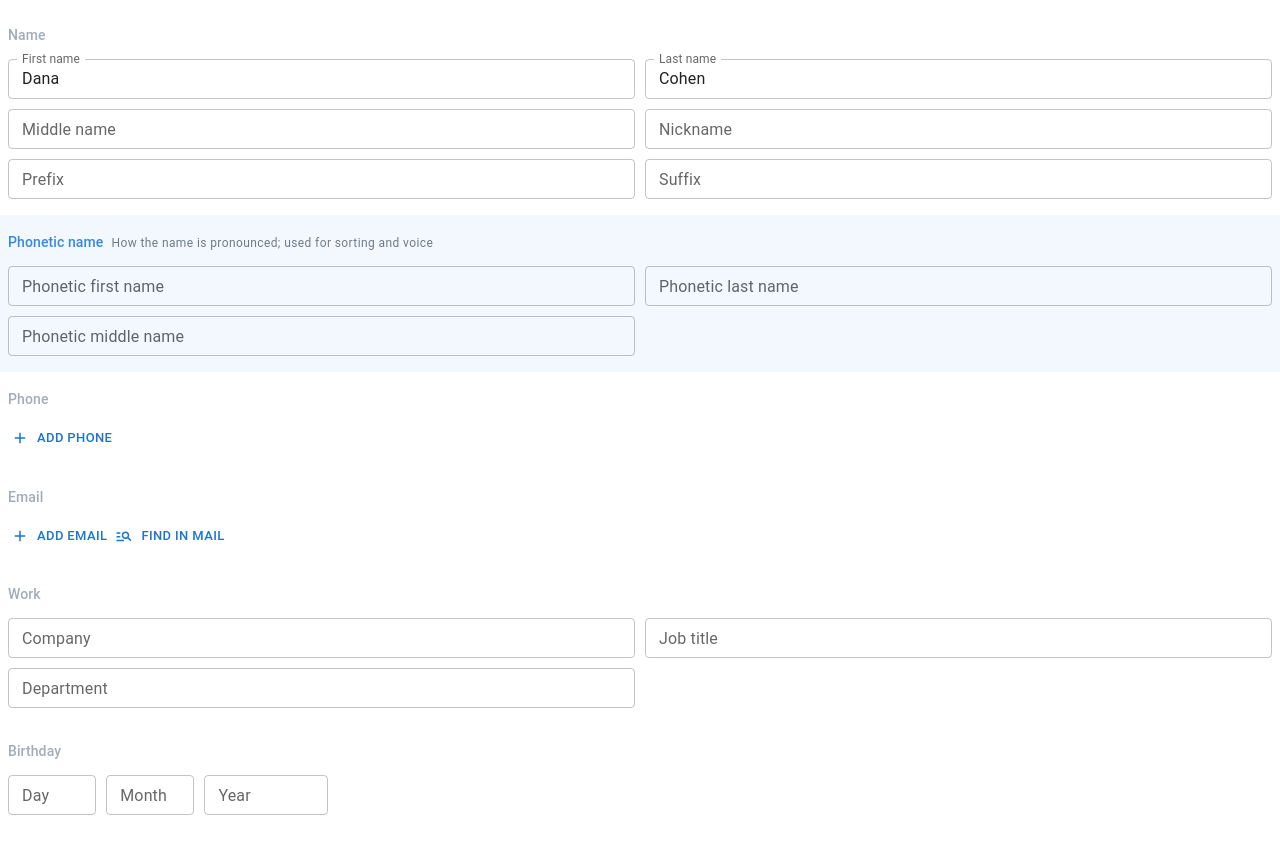
contact card auto-fill (FR-77, FR-78) › fills an exact match from the mail at once, into a new row typed by its domain
This screenshot has width=1280, height=851.
Step 1. Click the button "Find in mail" → [171, 536], box top-left (112, 521), bottom-right (230, 551)
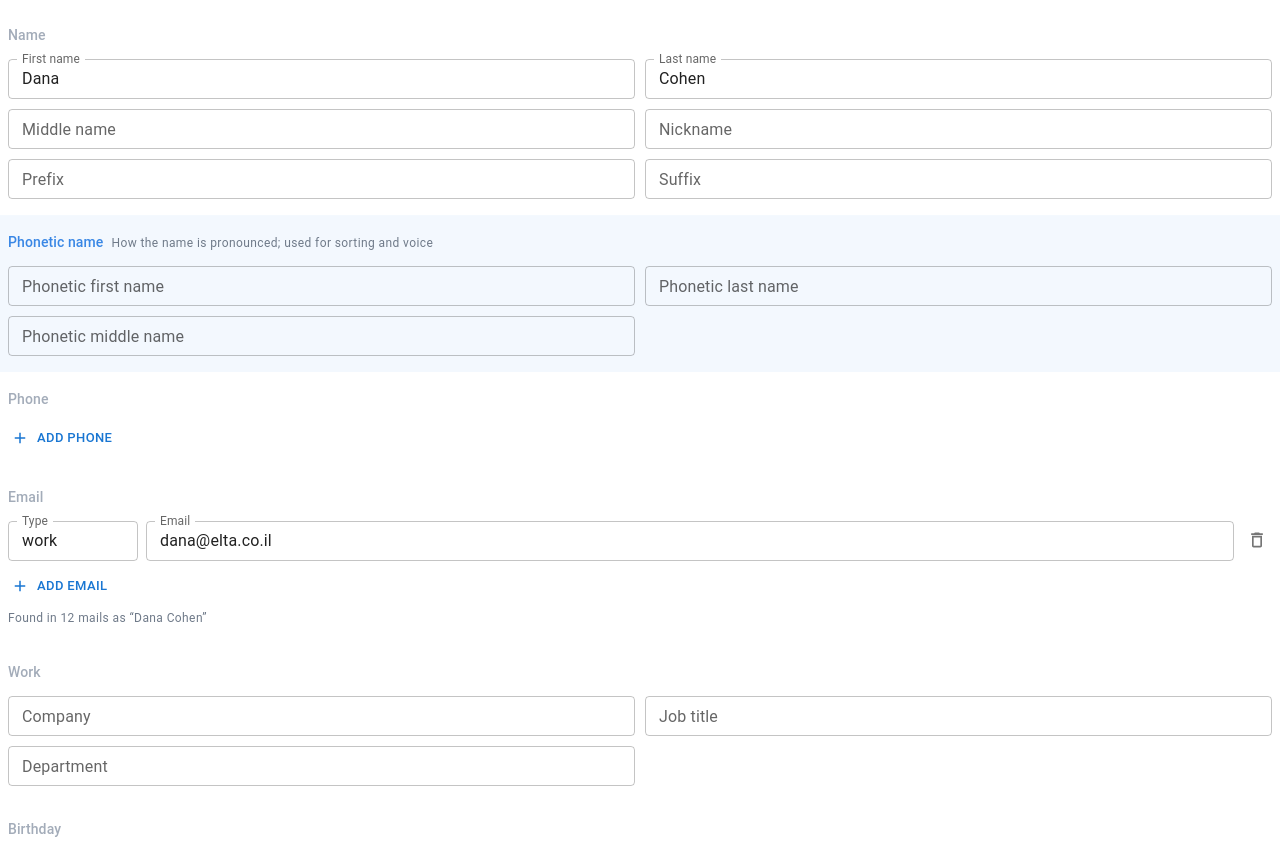
expect the text "Found in 12 mails as “Dana Cohen”" is shown: met, box top-left (8, 611), bottom-right (207, 625)
